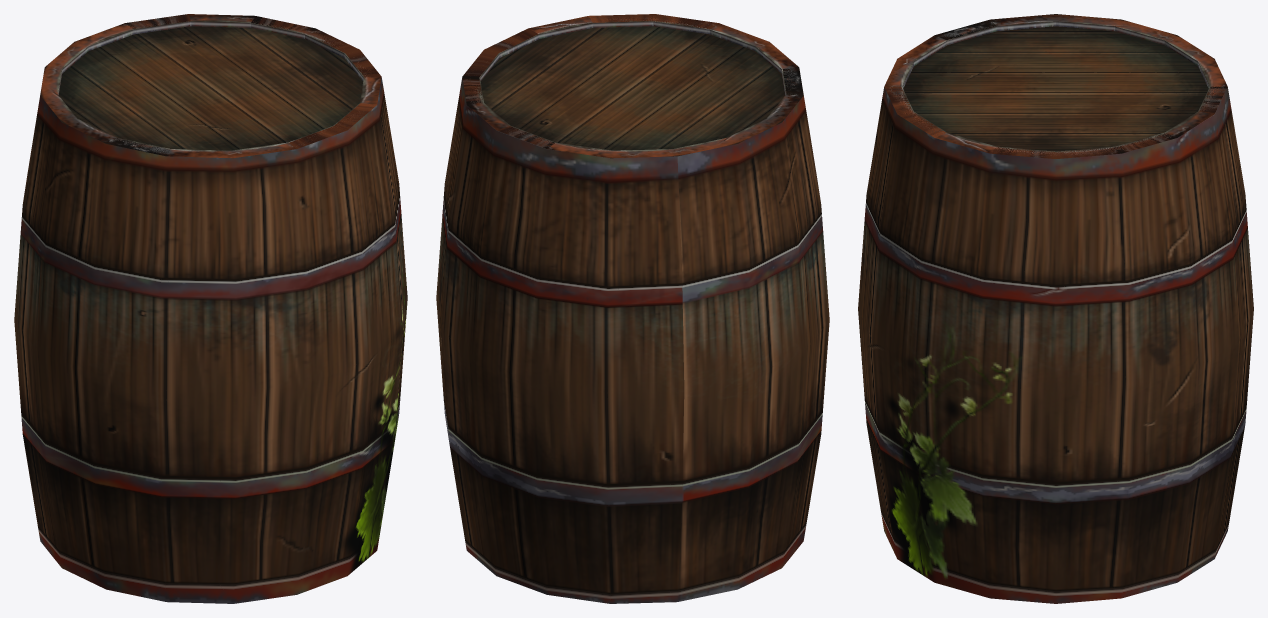
The model's file is tonneau.fbx.
The picture shows the model from 3 angles, left to right: view 1: azimuth 30°, elevation 25°; view 2: azimuth 150°, elevation 25°; view 3: azimuth 270°, elevation 25°; orthographic projection.
Visible parts, largest first — view 1: Tonneau côtés, Tonneau faces; view 2: Tonneau côtés, Tonneau faces; view 3: Tonneau côtés, Tonneau faces.
Boxes of the visible parts, left/top/right/bottom form: Tonneau côtés: left=14, top=77, right=407, bottom=603; Tonneau faces: left=40, top=14, right=381, bottom=158; Tonneau côtés: left=436, top=77, right=829, bottom=603; Tonneau faces: left=462, top=14, right=803, bottom=158; Tonneau côtés: left=858, top=87, right=1253, bottom=603; Tonneau faces: left=884, top=14, right=1227, bottom=158.
Bounding box in the file's own units: 80.68 × 100 × 80.68.
Materials: 1 (1 with a texture image).
